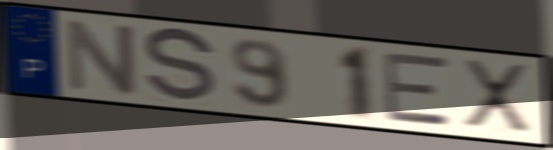1: (337, 43, 380, 124)
9: (227, 37, 293, 111)
E: (380, 51, 455, 129)
N: (63, 16, 140, 98)
S: (141, 26, 219, 106)
X: (460, 56, 534, 138)
